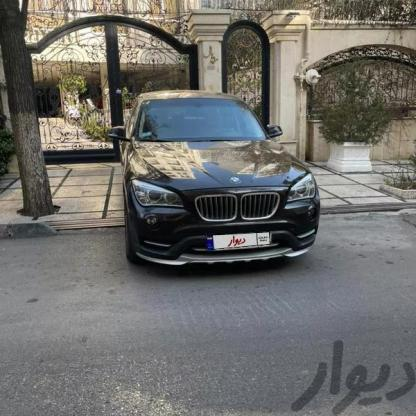Car: (117, 87, 330, 277)
